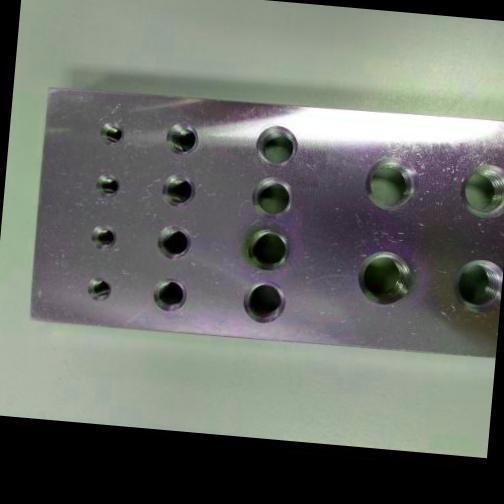hole: (355, 248, 414, 307), (363, 154, 421, 213), (451, 257, 504, 316), (458, 161, 504, 221), (245, 226, 292, 274), (250, 174, 296, 221), (242, 278, 288, 325), (255, 124, 300, 170), (152, 276, 190, 314), (155, 223, 193, 260), (161, 172, 198, 209), (165, 121, 200, 157), (100, 118, 127, 148), (90, 223, 117, 251), (86, 276, 113, 303), (95, 172, 121, 199)
